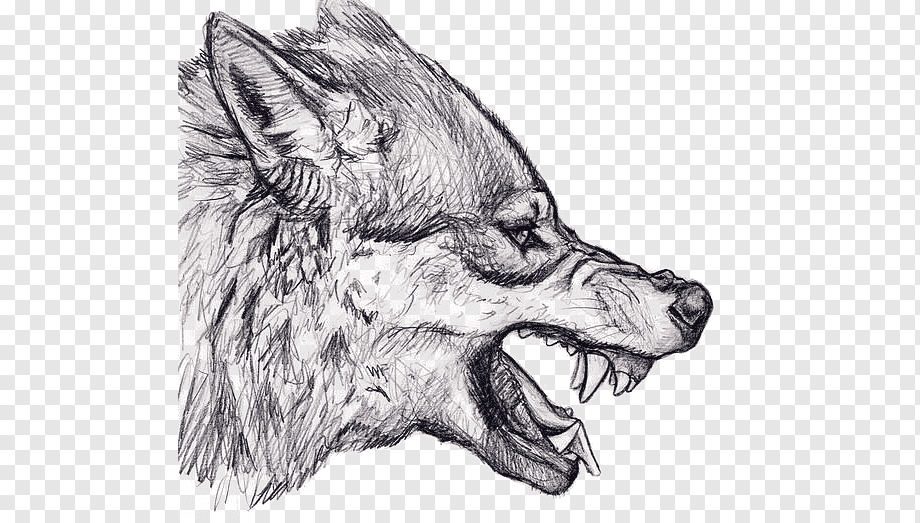Lobo: (143, 28, 732, 501)
